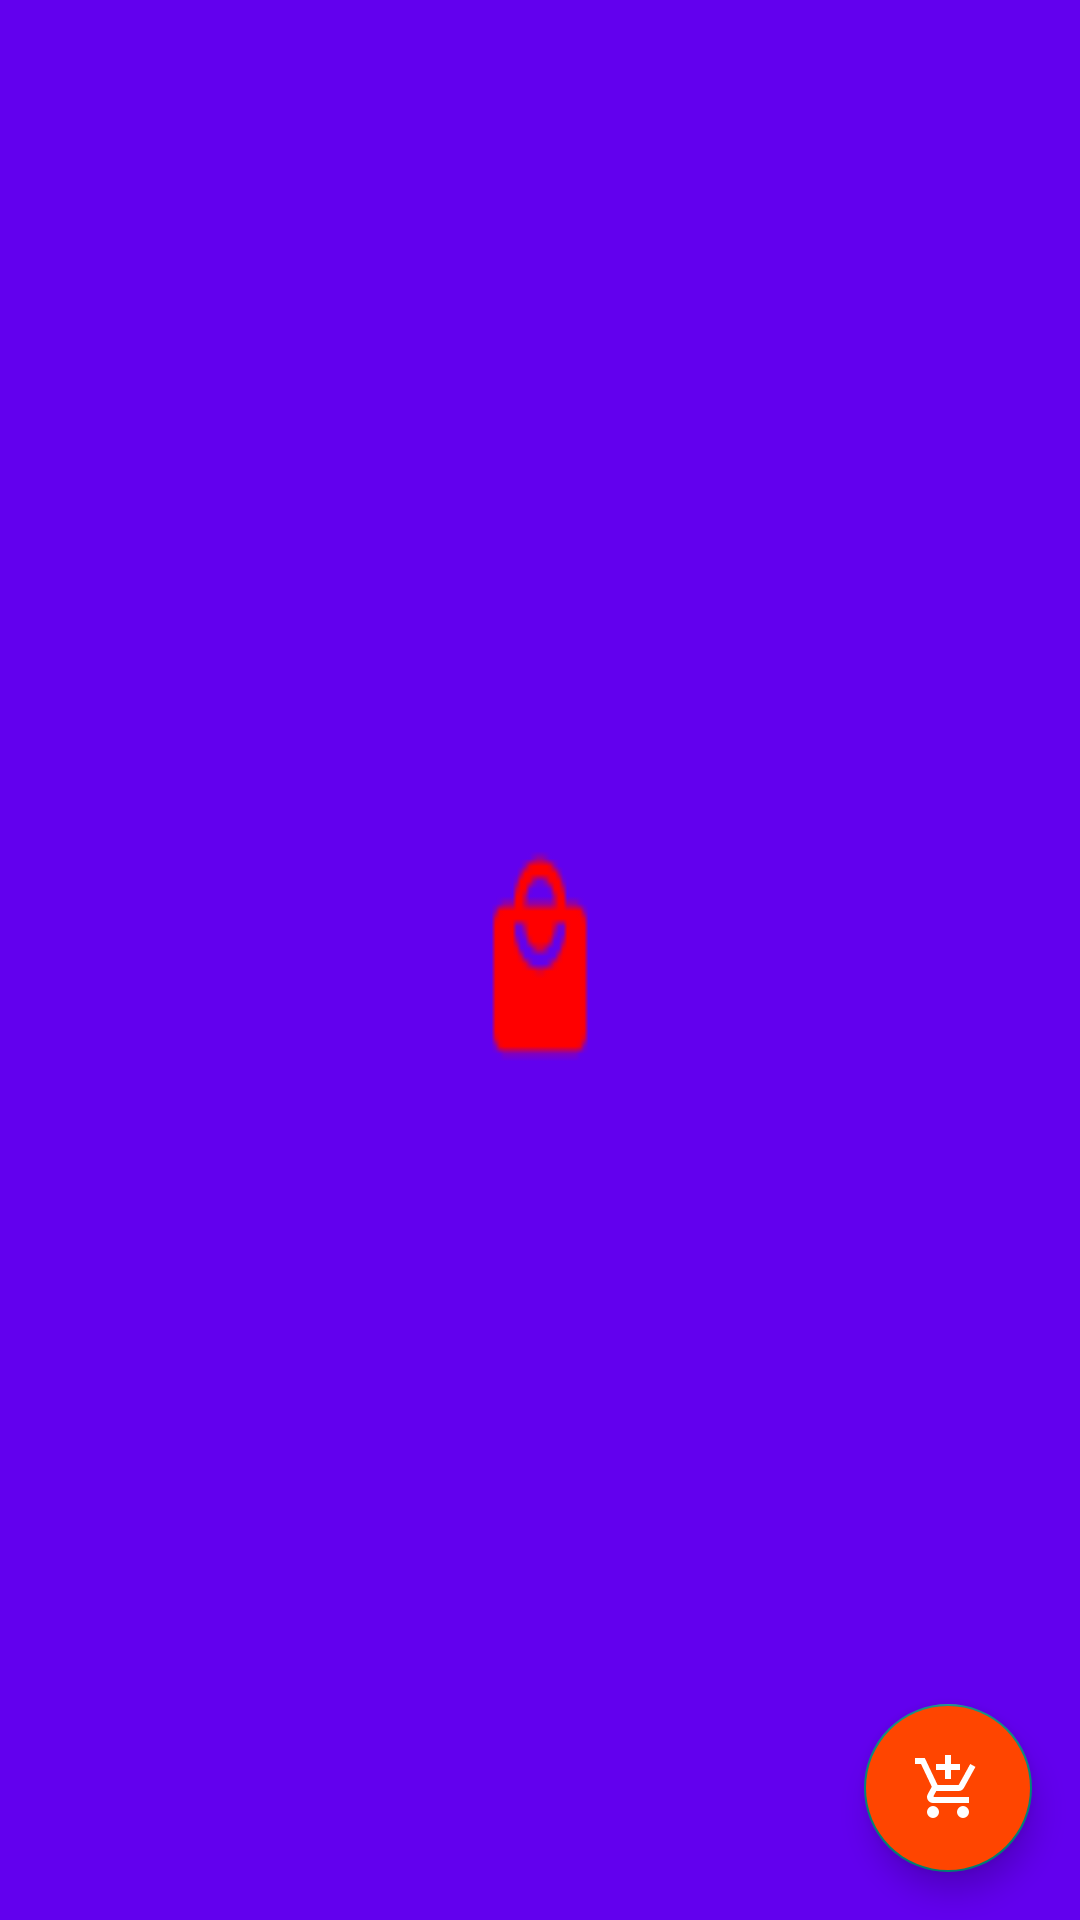

Screen size 1080*1920. Icon name, then its center in pixels as point (x, y):
cart plus: point (948, 1788)
